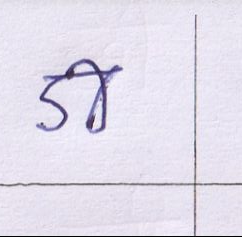i_matra: (72, 58, 106, 131)
